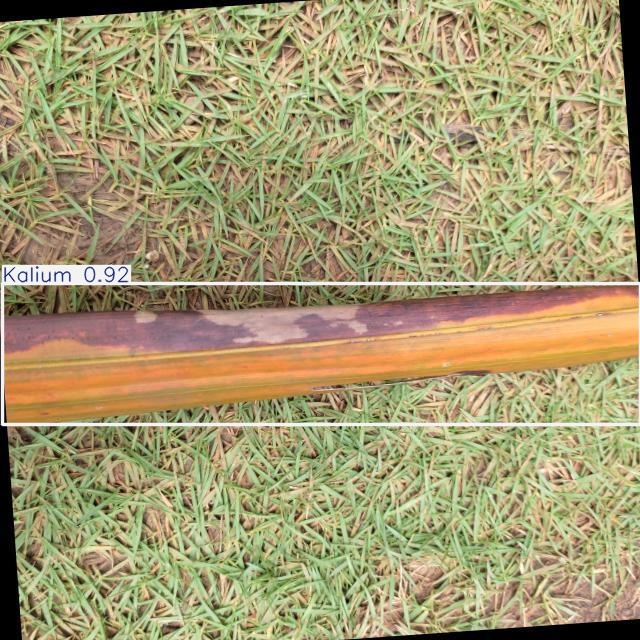Kalium: (2, 284, 640, 424)
